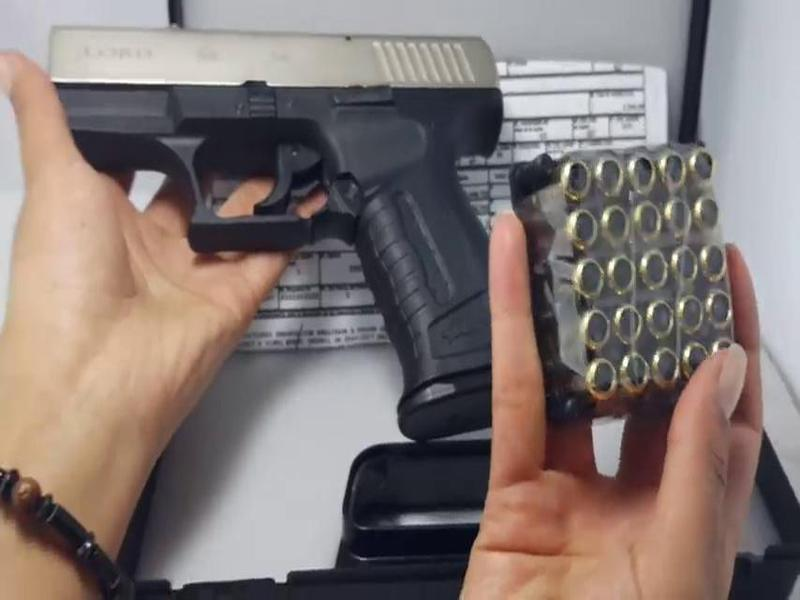Pistola: (42, 11, 534, 429)
